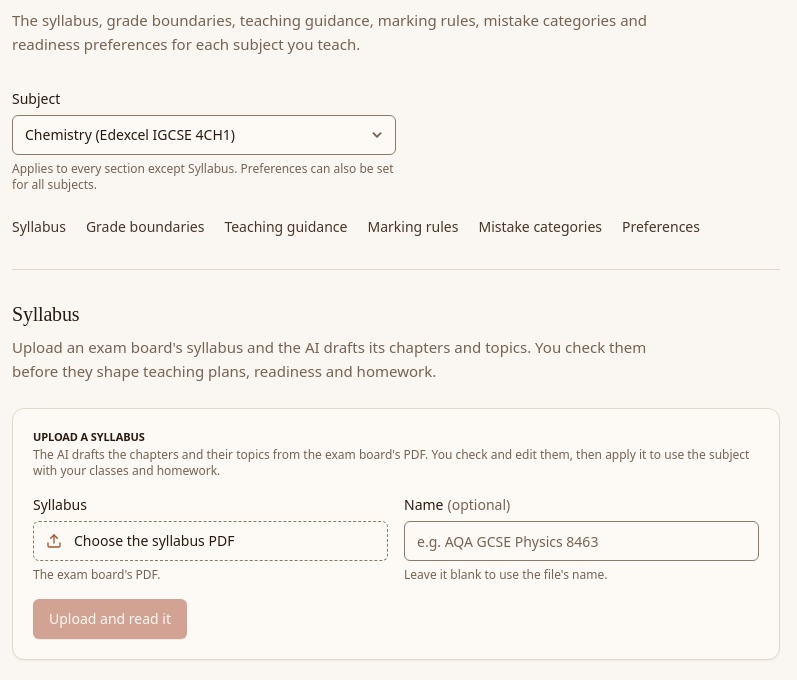
Test: choosing a subject updates ?subject= and every section asks for that subject
Select "Physics (Edexcel IGCSE 4PH1)" in the dropdown labelled "Subject" at (204, 135), box [12, 115, 396, 155]
(page scrolled)
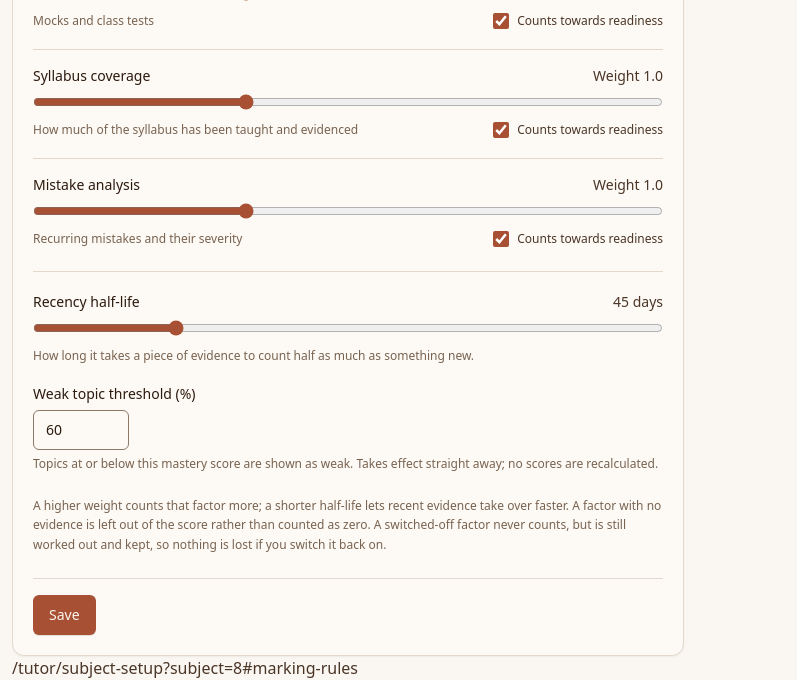
Expected: the text with test id "where" reads "/tutor/subject-setup?subject=8#marking-rules", [12, 657, 358, 679]
